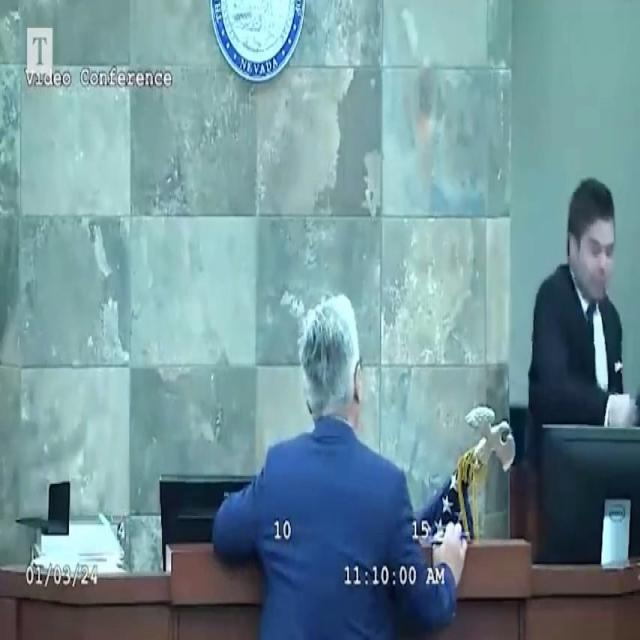fight: (520, 160, 640, 492)
non-fight: (208, 283, 474, 640)
